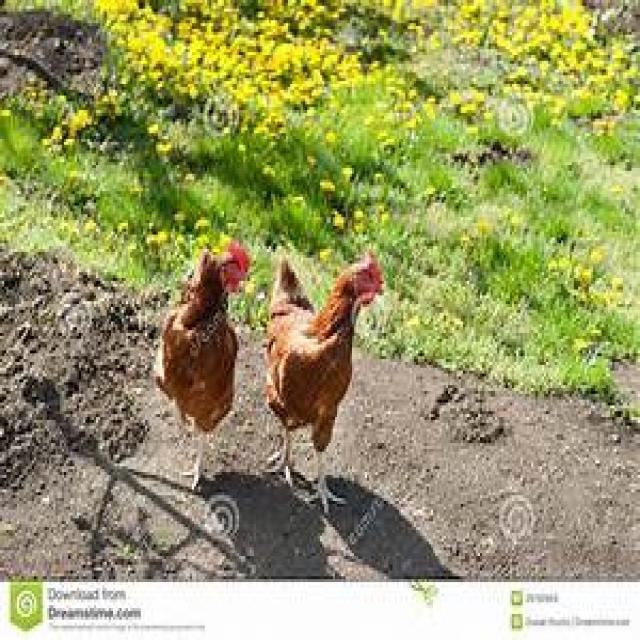chicken: (260, 246, 384, 513), (152, 238, 250, 490)
